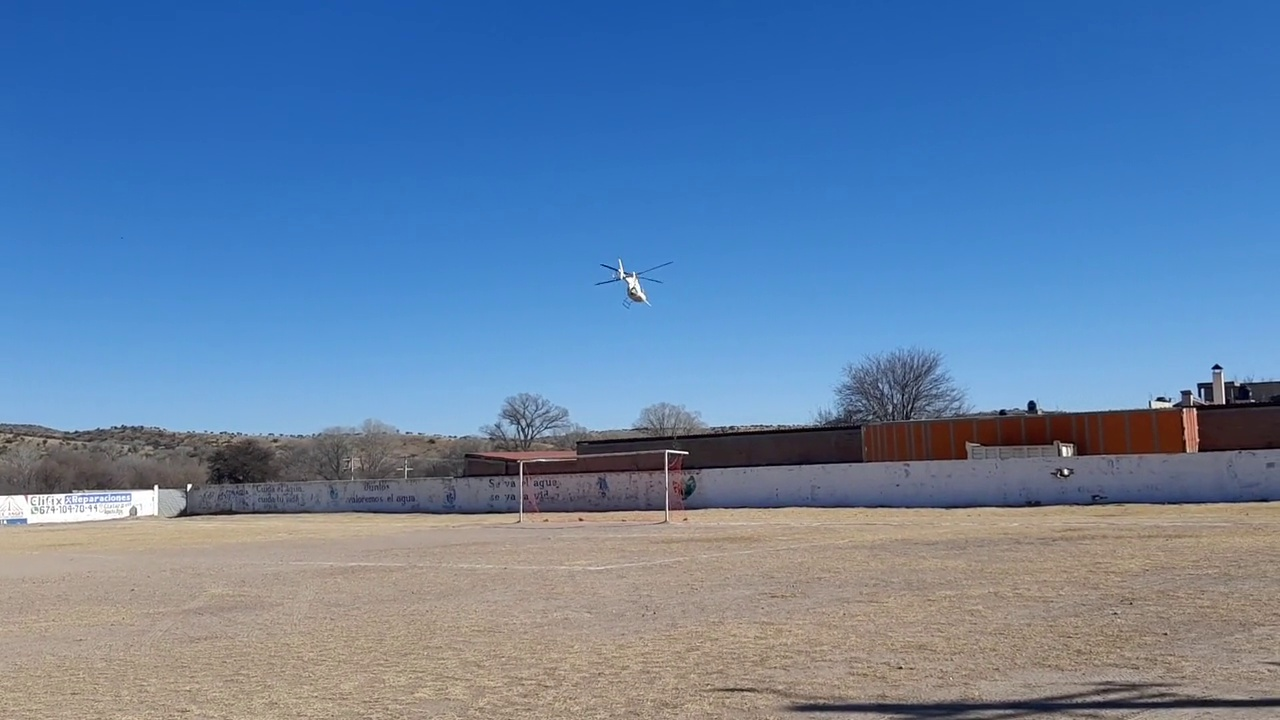heli: (592, 257, 674, 309)
